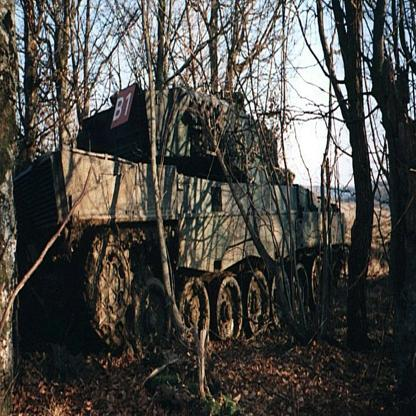Tank: (13, 70, 361, 355)
